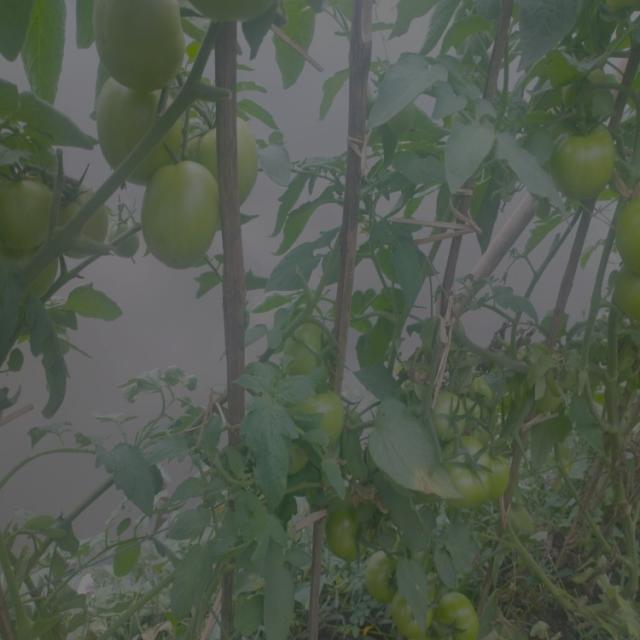tomato: (92, 1, 190, 91), (140, 161, 223, 267), (92, 84, 192, 163), (546, 97, 619, 201), (2, 155, 56, 261), (199, 116, 267, 186), (58, 169, 111, 257), (299, 386, 352, 451), (467, 432, 521, 490), (277, 319, 328, 378), (435, 454, 490, 505), (326, 504, 372, 558), (437, 592, 485, 640), (423, 386, 468, 434), (465, 374, 505, 425), (368, 550, 400, 599), (390, 600, 429, 640), (622, 196, 640, 269), (620, 272, 640, 320)
